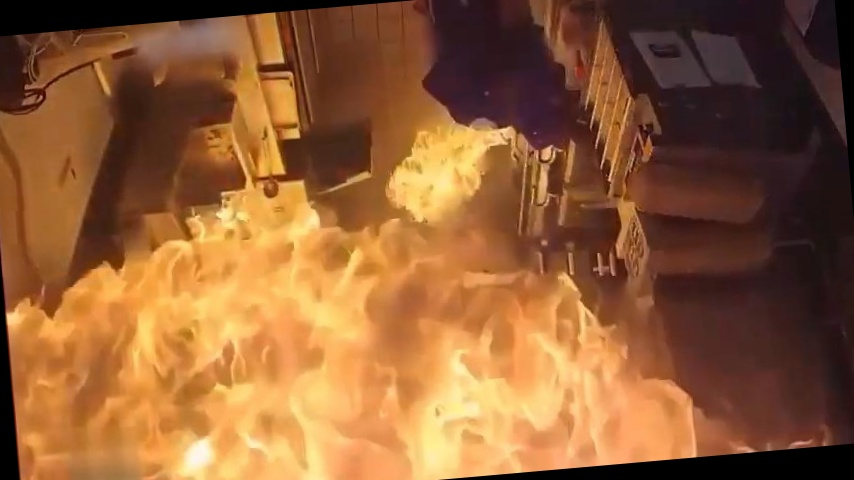fire: (0, 135, 744, 480)
